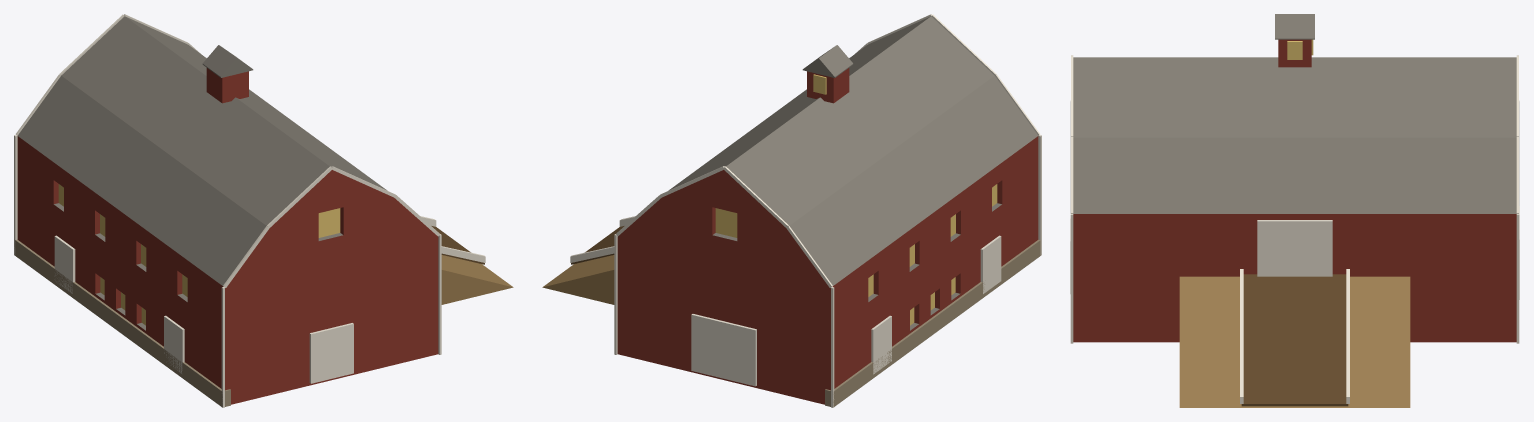
File: bank_barn.glb
3 renders of one model, left to right at view 1: azimuth 30°, elevation 25°; view 2: azimuth 150°, elevation 25°; view 3: azimuth 270°, elevation 25°, orthographic. The views are drawn at different scales.
Visible parts, largest first — view 1: wall, foundation, rear_door, bank, cupola, stable_door_1, cupola_roof, stable_door_0, rear_loft_window, corner_1, corner_0, corner_2; view 2: wall, end_door, foundation, bank, stable_door_0, stable_door_1, cupola_roof, cupola, end_loft_window, corner_3, corner_2, corner_0; view 3: wall, bank, ramp_deck, loft_door, cupola_roof, cupola, ramp_rail_n, ramp_rail_s, corner_1, corner_3.
Part boxes in pixels (x1,y1,x2,y2): wall: (17,16,438,404); foundation: (14,239,230,407); rear_door: (309,323,353,383); bank: (441,255,513,304); cupola: (206,68,248,103); stable_door_1: (54,235,75,293); cupola_roof: (202,45,253,77); stable_door_0: (164,315,184,373); rear_loft_window: (318,208,340,237); corner_1: (438,234,441,354); corner_0: (221,287,224,407); corner_2: (14,135,17,255); wall: (617,16,1038,404); end_door: (691,314,756,386); foundation: (825,239,1040,407); bank: (542,255,614,304); stable_door_0: (980,235,1001,293); stable_door_1: (871,315,891,374); cupola_roof: (802,45,853,77); cupola: (807,68,849,103); end_loft_window: (715,208,737,237); corner_3: (614,234,617,354); corner_2: (831,287,834,407); corner_0: (1038,135,1041,255); wall: (1073,57,1516,342); bank: (1179,276,1410,407); ramp_deck: (1241,274,1348,406); loft_door: (1257,220,1332,276); cupola_roof: (1275,14,1314,39); cupola: (1278,39,1311,67); ramp_rail_n: (1346,269,1349,403); ramp_rail_s: (1240,269,1243,403); corner_1: (1070,214,1073,343); corner_3: (1516,214,1519,343).
Size of the model in its own units: 19.12 by 13.55 by 20.28.
